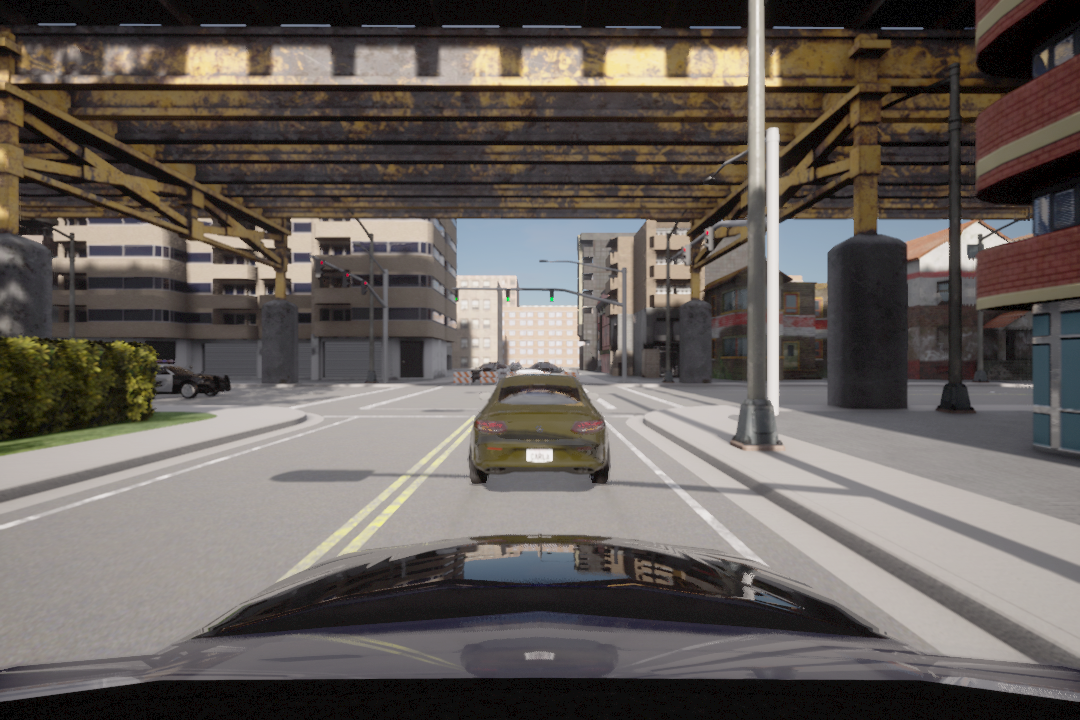TrafficLight: (704, 227, 716, 254), (680, 244, 691, 269), (341, 269, 352, 288), (361, 277, 368, 300), (547, 287, 555, 303), (452, 289, 461, 302), (317, 257, 323, 275), (505, 288, 511, 302)
